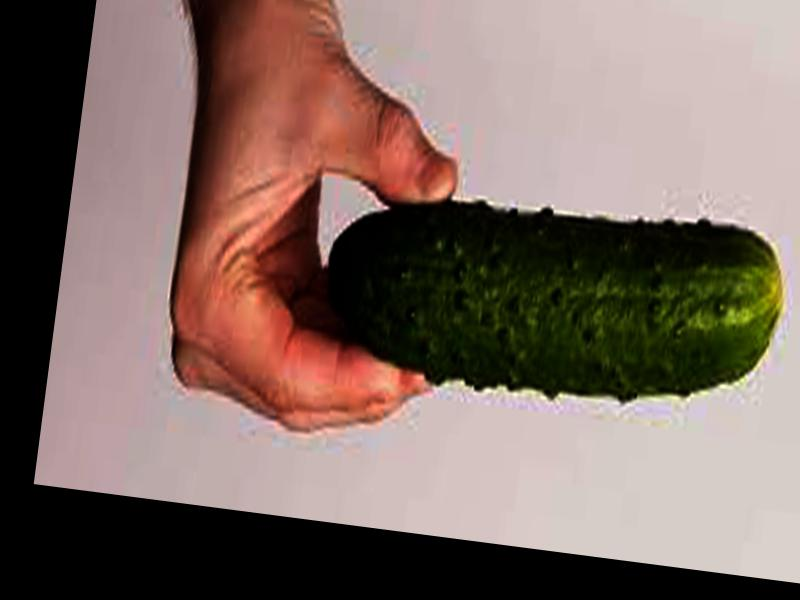Cucumber: (315, 190, 785, 422)
